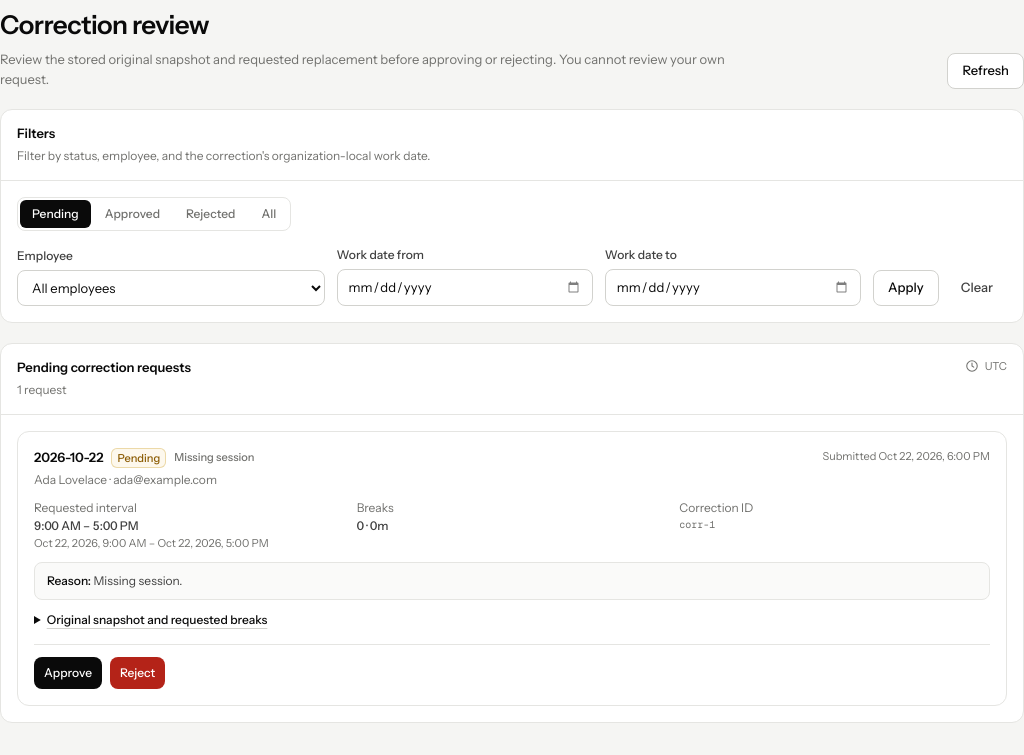
Test: CorrectionReviewView › approves a correction with an optional note
Expected: the text "Ada Lovelace · ada@example.com" is shown, [34,472,217,486]
Click the button "Approve" at (68, 673), box [34,657,102,689]
(page scrolled)
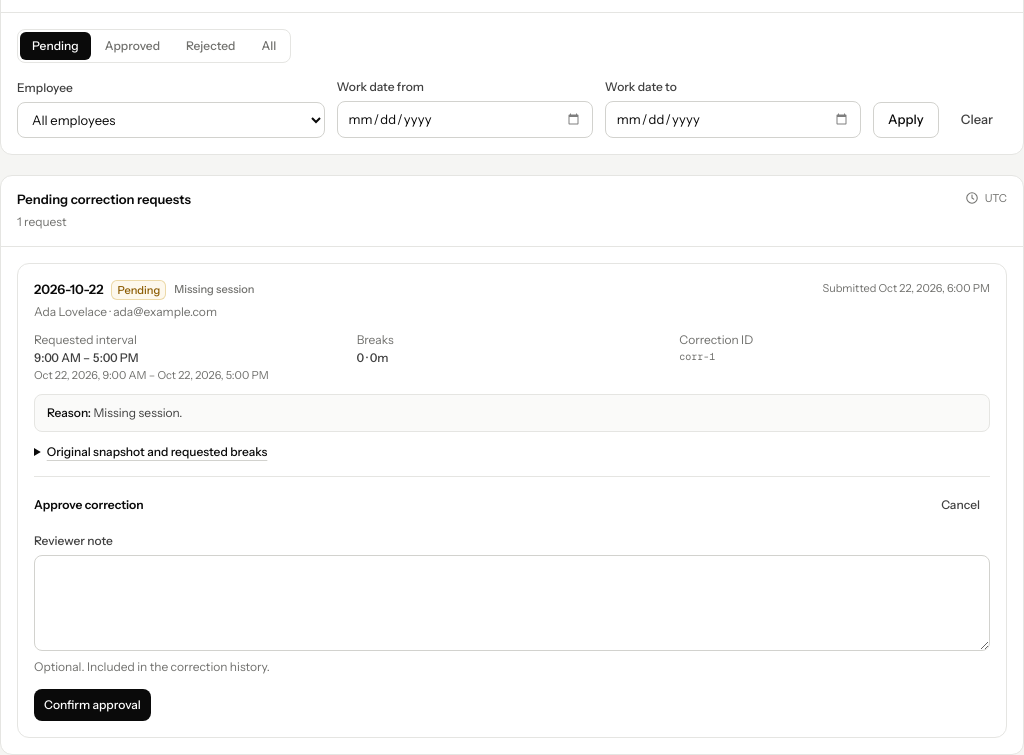
Type "Confirmed with the employee." into the text box labelled "Reviewer note" at (512, 603), box [34,555,990,651]
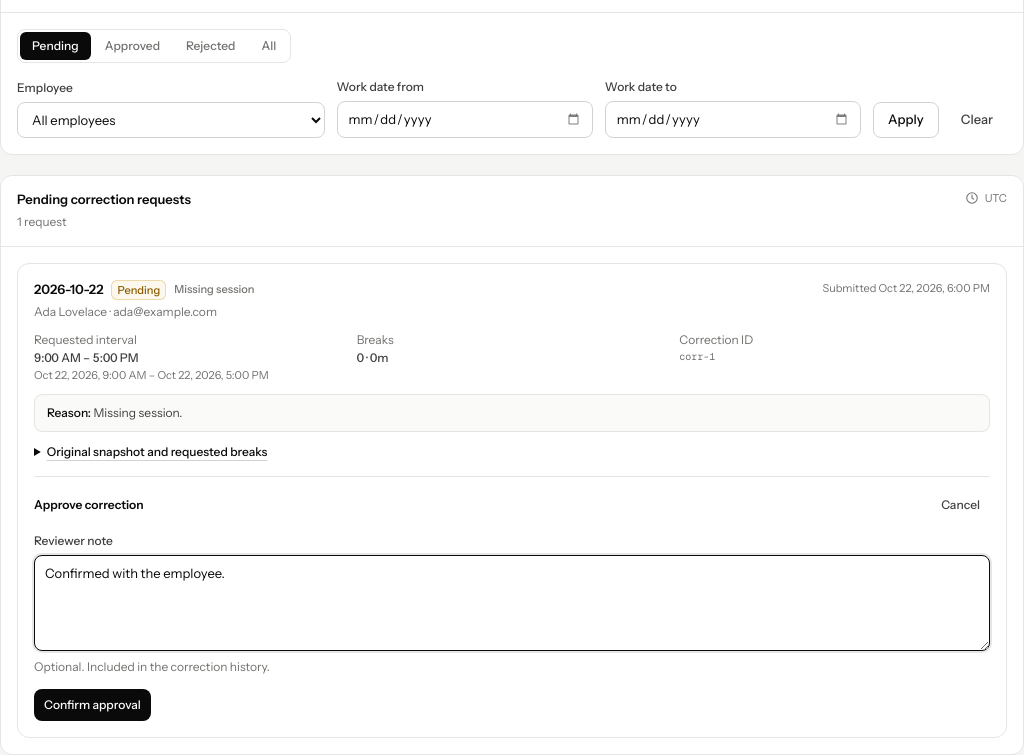
Click the button "Confirm approval" at (92, 705), box [34,689,151,721]
(page scrolled)
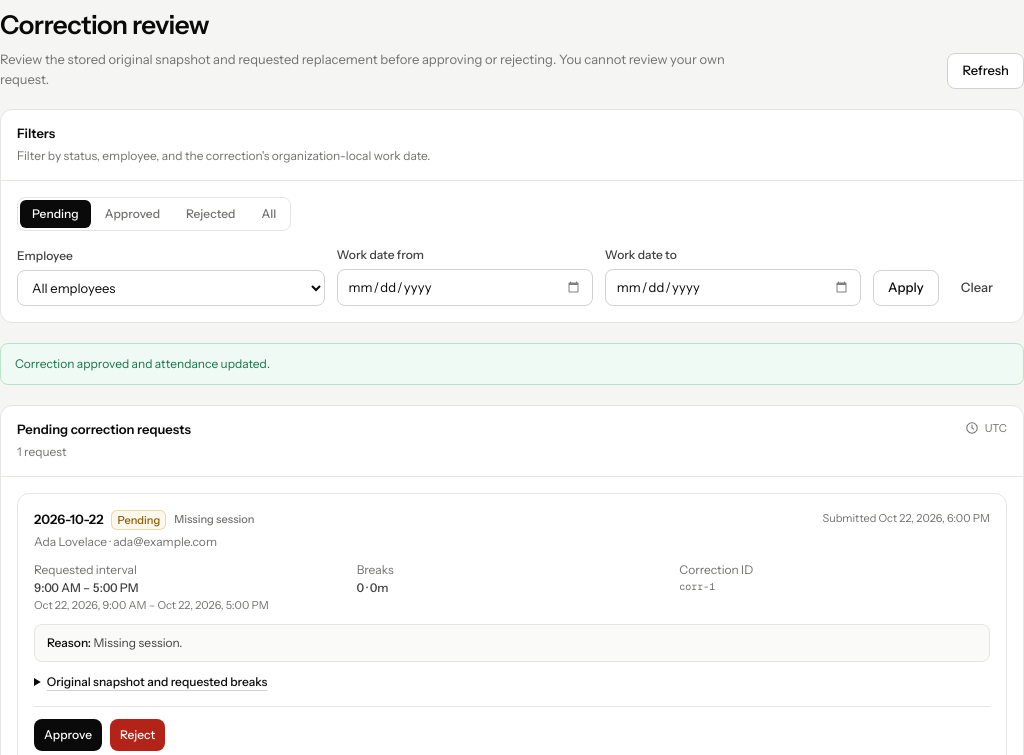
Expected: the text "Correction approved and attendance updated." is shown, [15,356,270,371]
